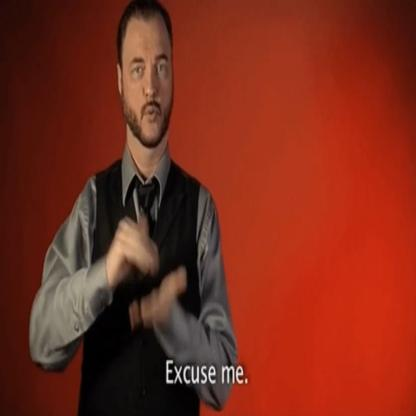ExcuseMe: (30, 0, 239, 416)
